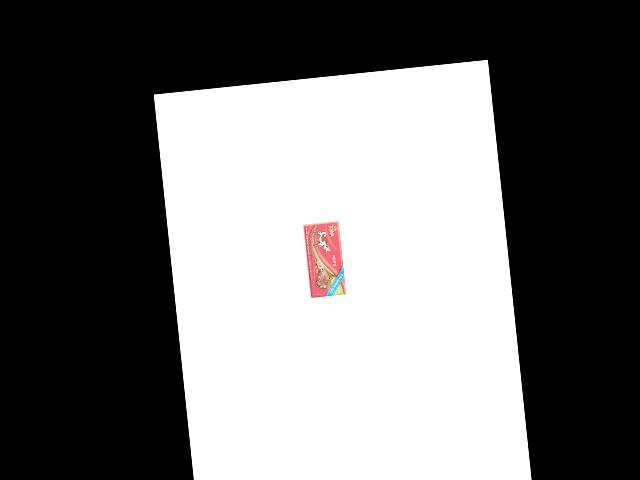chocolate: (303, 217, 346, 297)
